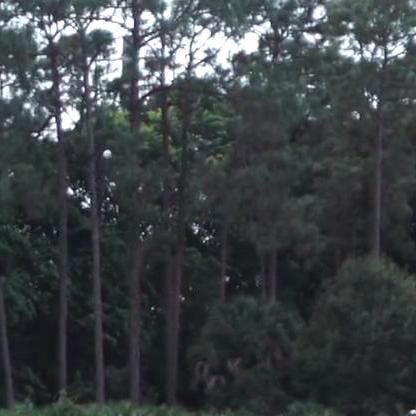golfball: (100, 149, 110, 159)
